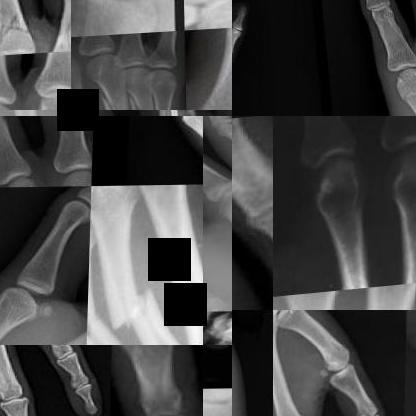fracture: (105, 271, 168, 343), (0, 6, 35, 48), (88, 295, 113, 344), (383, 74, 415, 111), (213, 28, 231, 62), (93, 96, 130, 109), (125, 95, 159, 109), (217, 311, 231, 344)
